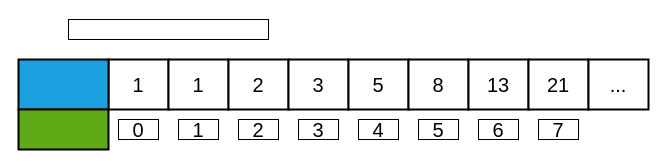
Some shapes in this 666 by 168 pixel diagram are drawn without their labels. The centre of each missing label's shape, as x and y in pixels:
"Fib Sequence:" goes at point 168,29.
"Index" goes at point 63,129.
"Value" goes at point 63,84.
